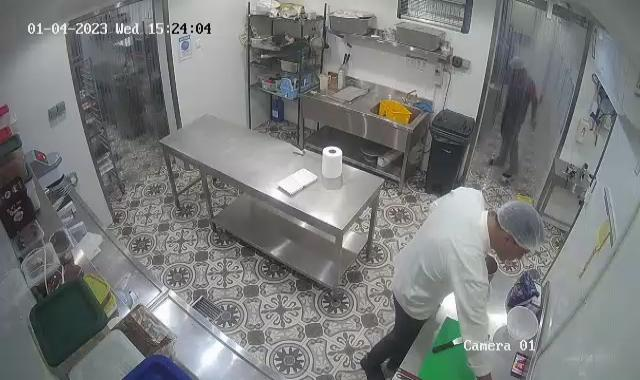hairnet: (497, 195, 543, 254)
